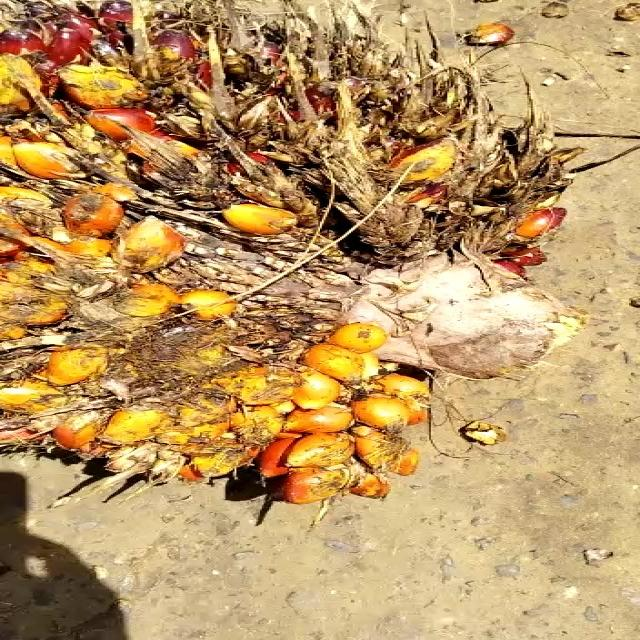palm oil: (0, 0, 587, 512)
